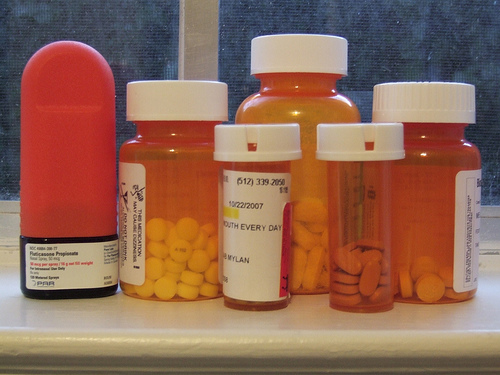pill bottle: (314, 120, 409, 317), (211, 120, 303, 315)
